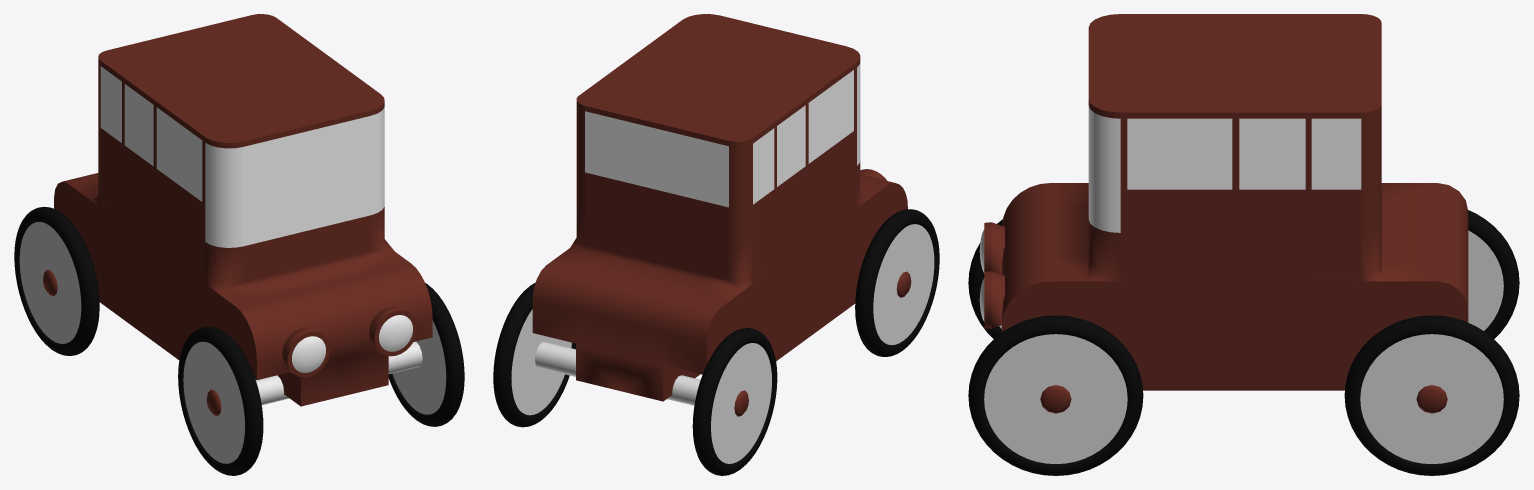
File: car_01.fbx
3 renders of one model, left to right at view 1: azimuth 30°, elevation 25°; view 2: azimuth 150°, elevation 25°; view 3: azimuth 270°, elevation 25°, orthographic. The views are drawn at different scales.
Parts seen in each view (by area): view 1: car_01; view 2: car_01; view 3: car_01.
Part boxes in pixels (x1,y1,x2,y2): car_01: (14,14,464,475); car_01: (493,14,939,475); car_01: (968,14,1519,475).
Bounding box in the file's own units: 114 × 154 × 216.
